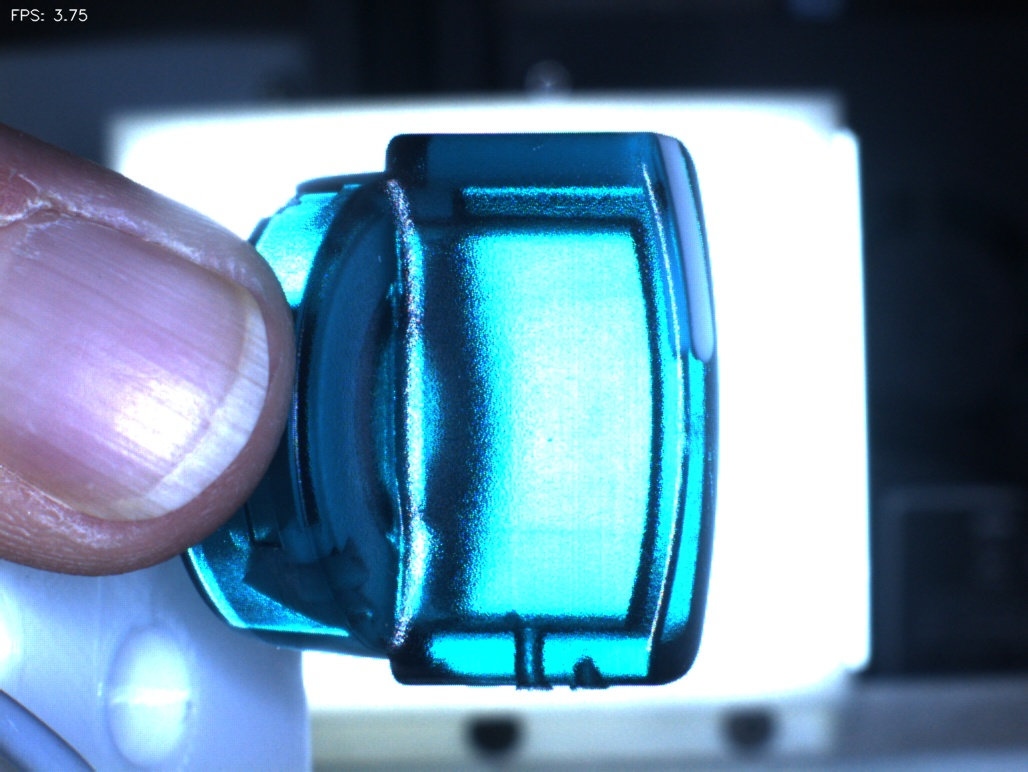Bulle: (552, 634, 625, 722)
